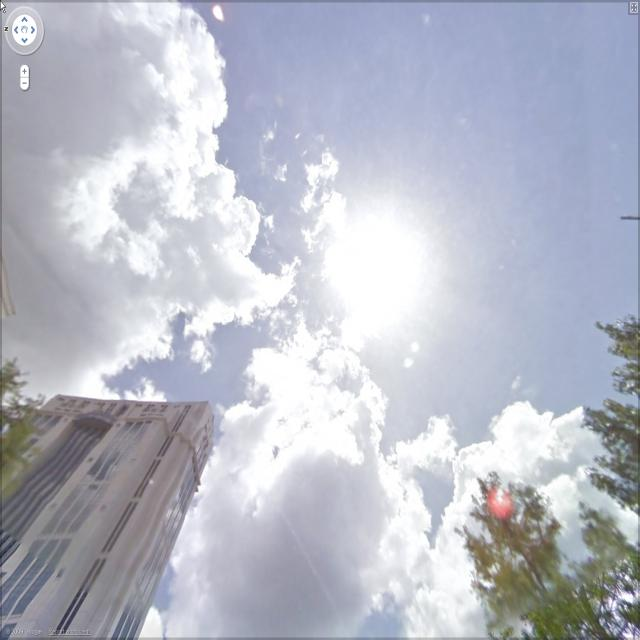b_1: (15, 375, 238, 640)
